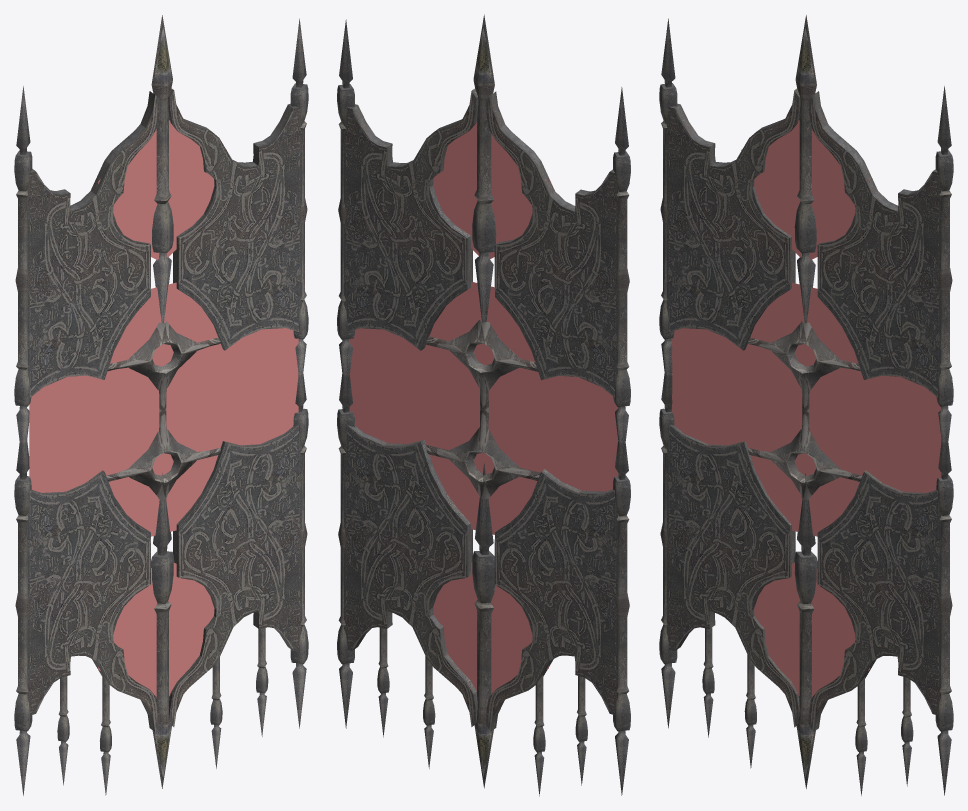
File: door.fbx
The picture shows the model from 3 angles, left to right: view 1: azimuth 30°, elevation 25°; view 2: azimuth 150°, elevation 25°; view 3: azimuth 330°, elevation 25°; orthographic projection.
Parts seen in each view (by area): view 1: LV_NigraturisOfDream_Object_Door_SM_YSH; view 2: LV_NigraturisOfDream_Object_Door_SM_YSH; view 3: LV_NigraturisOfDream_Object_Door_SM_YSH.
Boxes of the visible parts, x1,y1,x2,y2 form: LV_NigraturisOfDream_Object_Door_SM_YSH: [14, 15, 308, 795]; LV_NigraturisOfDream_Object_Door_SM_YSH: [337, 14, 630, 796]; LV_NigraturisOfDream_Object_Door_SM_YSH: [659, 15, 953, 795].
Bounding box in the file's own units: 1.14 × 2.87 × 0.0746.
